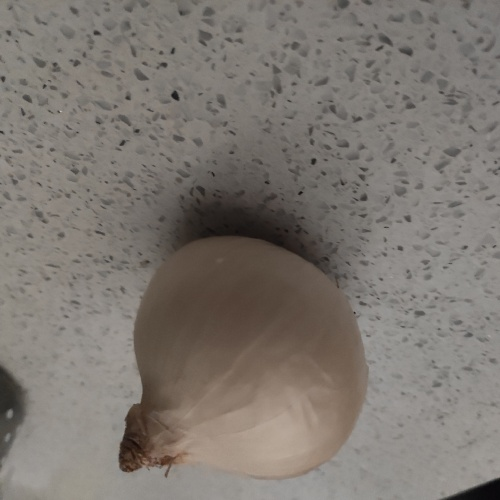cipolla: (94, 224, 376, 482)
